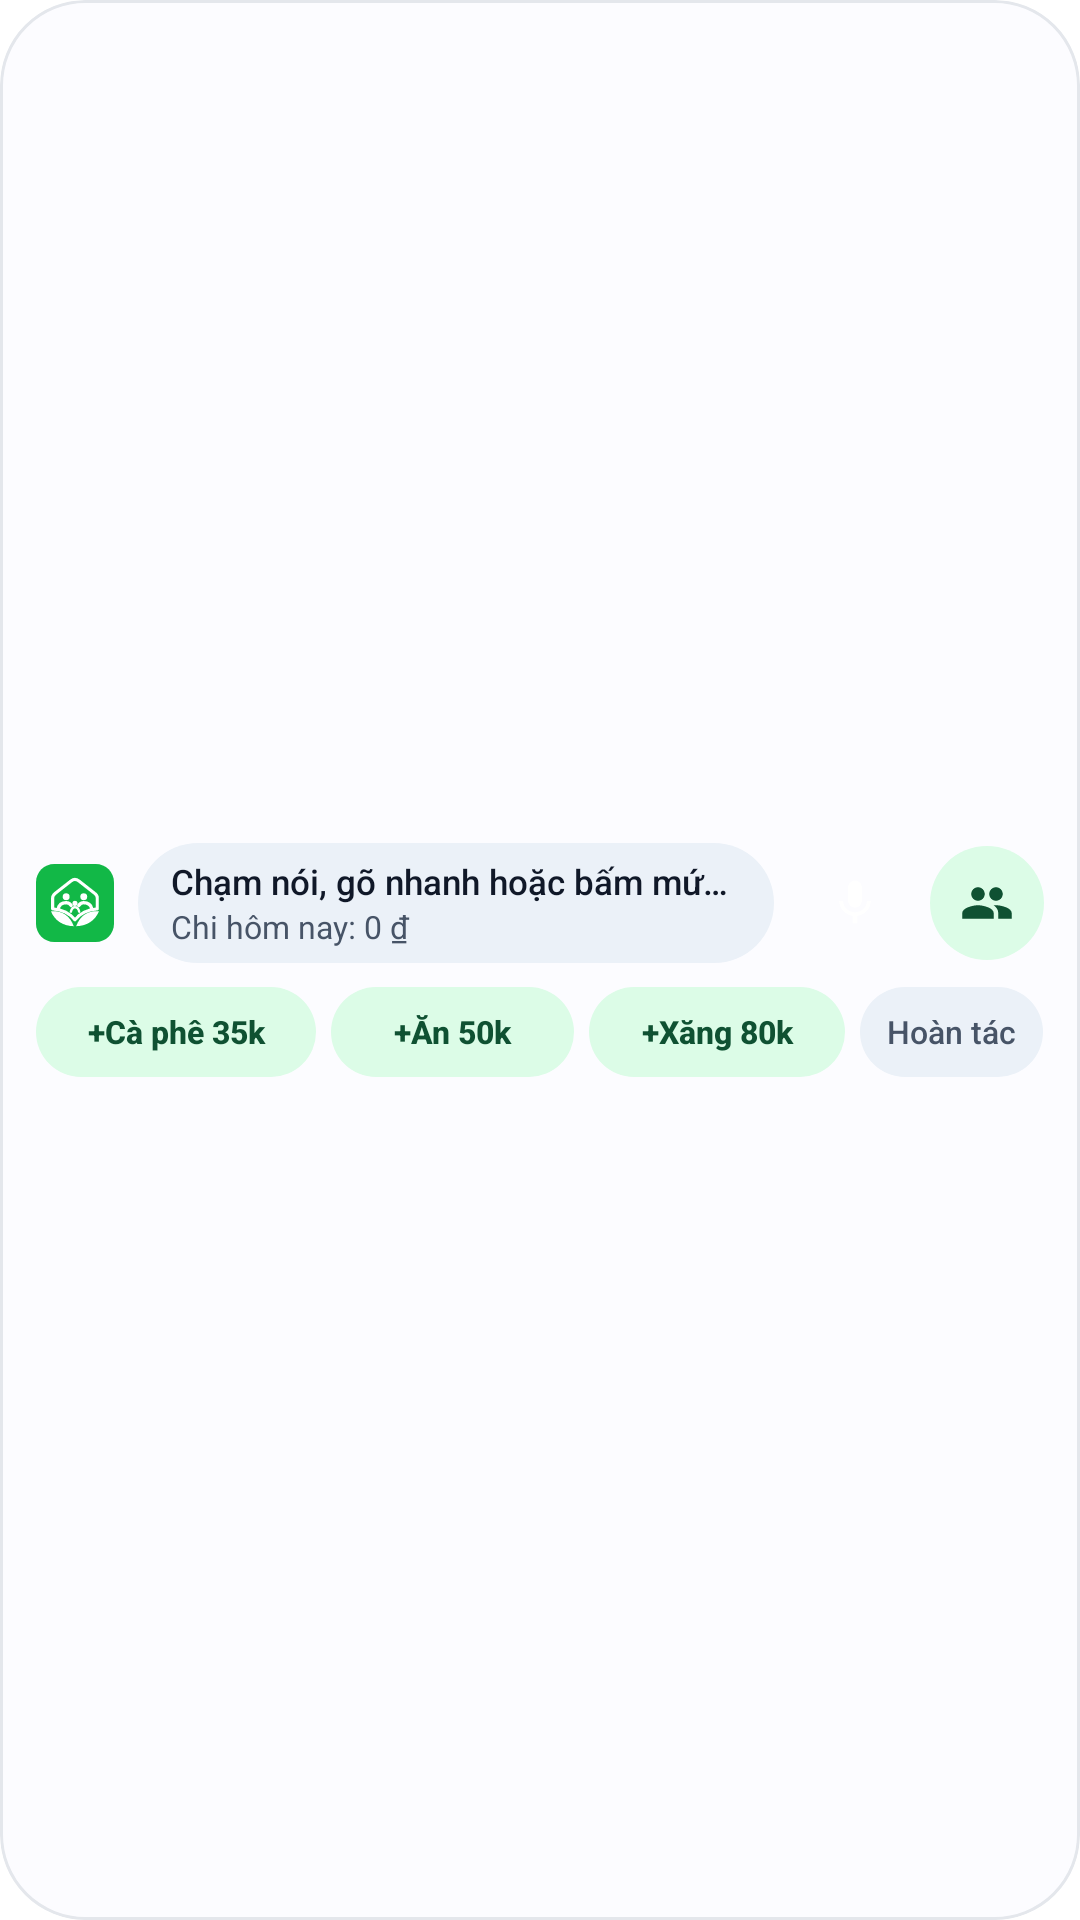

Icons on this 1080w x 1920h Android screen, each with its box as (left=x1, top=y1, right=x2, bottom=y2):
Chia tiền nhóm ngay ngoài màn hình: (left=962, top=887, right=1012, bottom=919)
